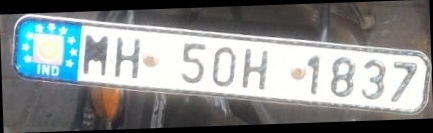character: (112, 34, 140, 79), (240, 46, 269, 89), (389, 58, 417, 102), (82, 30, 108, 75), (180, 40, 207, 83), (329, 53, 355, 97), (211, 44, 236, 87), (361, 57, 386, 100), (307, 51, 321, 97)
